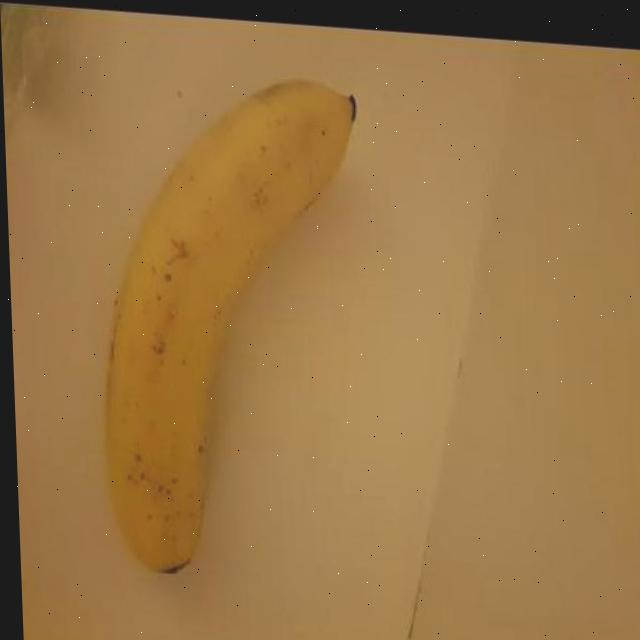banana: (83, 55, 380, 595)
